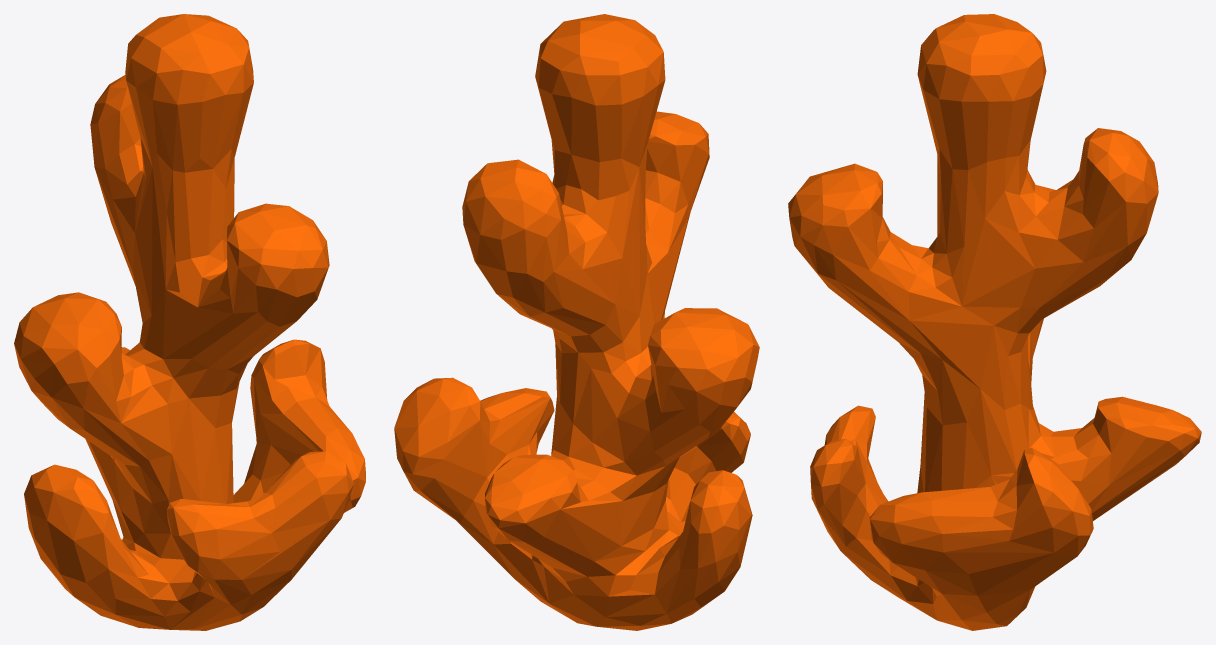
The model's file is Coral 3 naranjo.fbx.
3 views of the same model, side by side, from view 1: azimuth 30°, elevation 25°; view 2: azimuth 150°, elevation 25°; view 3: azimuth 270°, elevation 25° (orthographic).
Parts seen in each view (by area): view 1: Cube.002; view 2: Cube.002; view 3: Cube.002.
Part boxes in pixels (bbox=[...]): Cube.002: bbox=[14, 14, 365, 630]; Cube.002: bbox=[394, 14, 759, 630]; Cube.002: bbox=[788, 14, 1201, 630].
Bounding box in the file's own units: 149 × 262 × 165.
